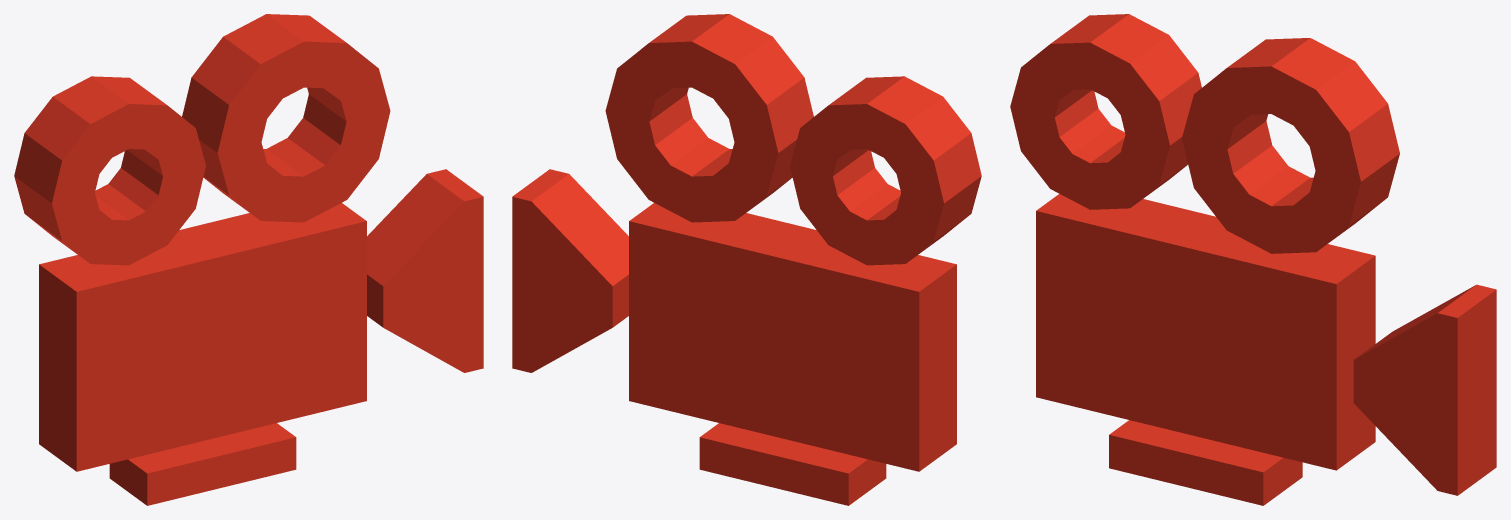
Rendered from Icon_Record_01.fbx.
The picture shows the model from 3 angles, left to right: view 1: azimuth 30°, elevation 25°; view 2: azimuth 150°, elevation 25°; view 3: azimuth 330°, elevation 25°; orthographic projection. The views are drawn at different scales.
Parts seen in each view (by area): view 1: Icon_Record_01; view 2: Icon_Record_01; view 3: Icon_Record_01.
Part boxes in pixels (box(x1,y1,x2,y2)): Icon_Record_01: box(14, 14, 483, 505); Icon_Record_01: box(512, 14, 981, 505); Icon_Record_01: box(1010, 14, 1496, 505).
Size of the model in its own units: 79.83 by 75.26 by 12.06.
